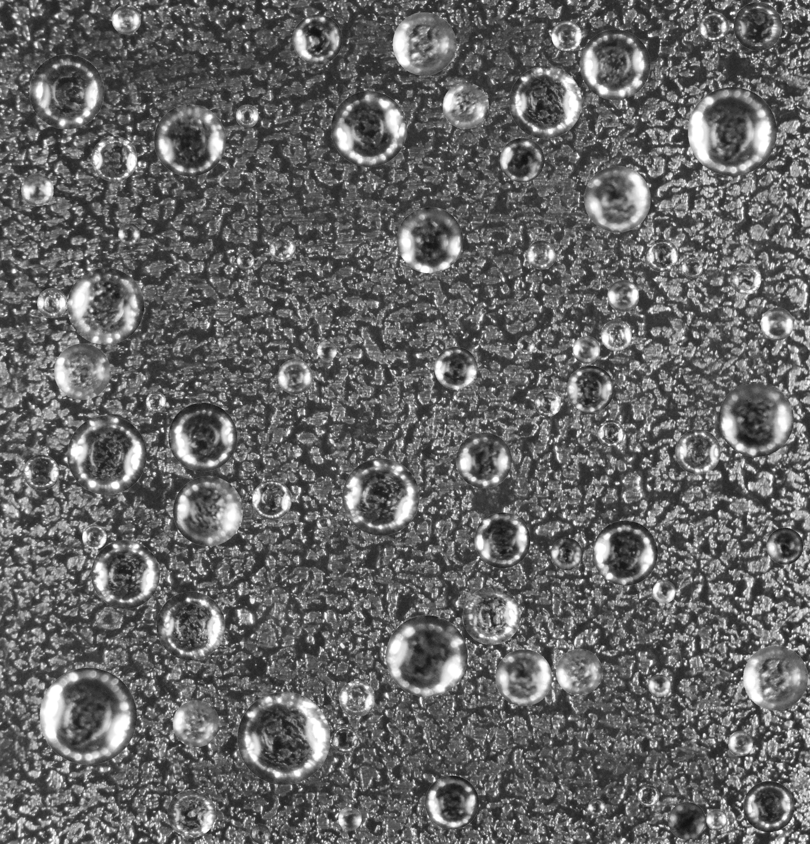Bubble: (39, 667, 136, 764), (237, 692, 330, 784), (688, 87, 776, 175), (386, 615, 467, 696), (67, 415, 146, 494), (67, 267, 144, 344), (342, 458, 419, 535), (331, 91, 406, 166), (29, 54, 104, 129), (718, 381, 793, 456), (509, 66, 581, 138), (154, 104, 225, 176), (580, 29, 650, 99), (173, 476, 242, 546), (168, 402, 237, 471), (156, 591, 225, 660), (91, 540, 159, 608), (584, 166, 650, 232), (397, 207, 463, 273), (592, 520, 657, 585), (743, 645, 807, 710), (392, 12, 455, 75), (462, 587, 520, 644), (495, 649, 552, 706), (54, 343, 110, 399), (474, 512, 530, 568), (456, 432, 511, 488), (425, 775, 478, 829), (743, 781, 794, 832), (292, 14, 342, 64), (733, 2, 782, 50), (167, 789, 215, 837), (172, 700, 219, 747), (567, 365, 614, 412), (442, 82, 488, 128), (556, 649, 602, 695), (91, 136, 137, 181), (675, 429, 720, 474), (500, 137, 544, 182), (434, 346, 477, 389), (252, 480, 291, 519), (668, 802, 705, 839), (766, 527, 803, 564), (339, 680, 375, 716), (23, 454, 59, 490), (277, 359, 312, 394), (21, 173, 53, 206), (761, 307, 793, 340), (550, 537, 582, 570), (645, 239, 678, 271), (607, 280, 639, 311), (730, 263, 761, 294), (551, 20, 581, 51), (601, 320, 631, 350), (698, 12, 728, 42), (37, 288, 67, 318), (527, 240, 556, 269), (111, 5, 140, 34), (572, 336, 600, 363), (534, 389, 561, 416), (597, 420, 624, 447), (332, 727, 358, 753), (269, 235, 295, 261), (728, 731, 753, 756), (82, 525, 106, 549), (652, 580, 675, 603), (235, 104, 258, 127), (338, 807, 361, 830), (648, 674, 670, 696), (118, 223, 140, 245), (637, 785, 659, 806), (145, 391, 166, 412), (706, 809, 727, 830), (682, 257, 703, 278), (317, 340, 336, 360), (250, 824, 269, 843), (517, 336, 535, 354), (588, 798, 605, 815), (237, 252, 254, 269), (316, 516, 330, 530)
